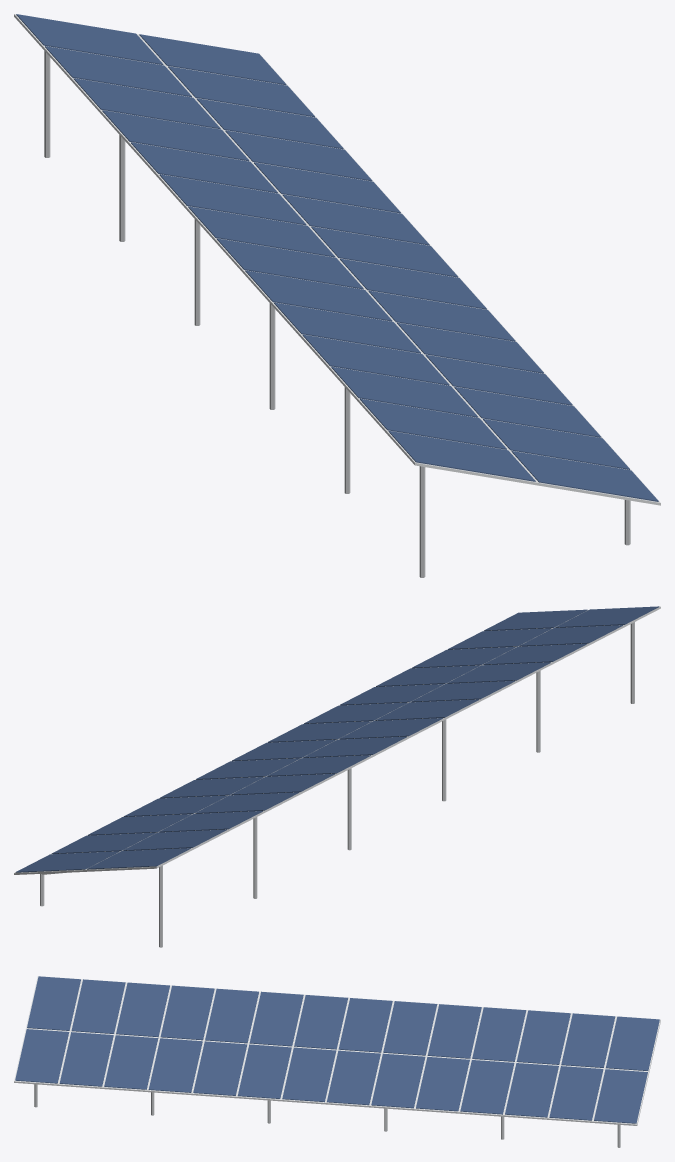
The model's file is rares_spis_array_east.glb.
3 views of the same model, one above another, from view 1: azimuth 30°, elevation 25°; view 2: azimuth 150°, elevation 25°; view 3: azimuth 270°, elevation 25° (orthographic). The views are drawn at different scales.
Visible parts, largest first — view 1: Solar_PV_Modules, Solar_Array_Frame, Array_Support_Frame; view 2: Solar_PV_Modules, Solar_Array_Frame, Array_Support_Frame; view 3: Solar_PV_Modules, Solar_Array_Frame, Array_Support_Frame.
Boxes of the visible parts, bbox=[...] form: Solar_PV_Modules: bbox=[16, 14, 658, 501]; Solar_Array_Frame: bbox=[14, 14, 660, 505]; Array_Support_Frame: bbox=[44, 51, 630, 577]; Solar_PV_Modules: bbox=[15, 606, 659, 872]; Solar_Array_Frame: bbox=[14, 606, 660, 874]; Array_Support_Frame: bbox=[40, 622, 634, 947]; Solar_PV_Modules: bbox=[15, 976, 659, 1123]; Solar_Array_Frame: bbox=[14, 976, 660, 1125]; Array_Support_Frame: bbox=[34, 1084, 620, 1147].
Bounding box in the file's own units: 6.07 × 2 × 15.91.
